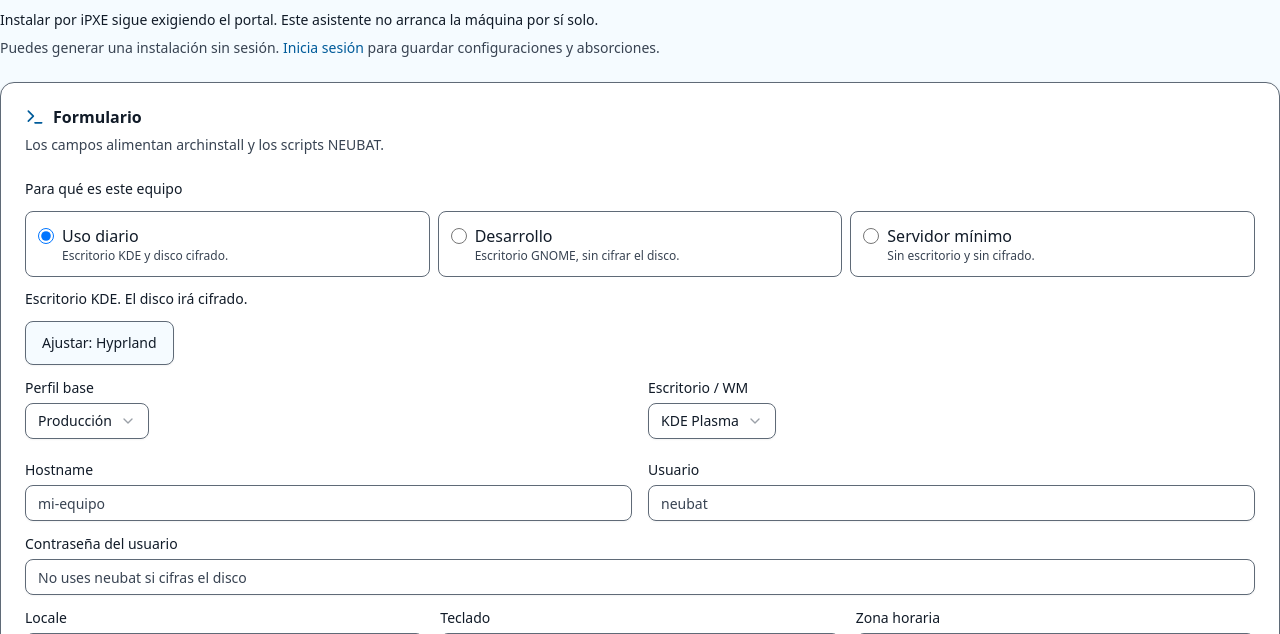
Test: ConfigurePage › Servidor mínimo anuncia que el disco no va cifrado
Click the radio button labelled "Servidor mínimo Sin escritorio y sin cifrado." at (871, 236), box x1=863 y1=228 x2=879 y2=244
(page scrolled)
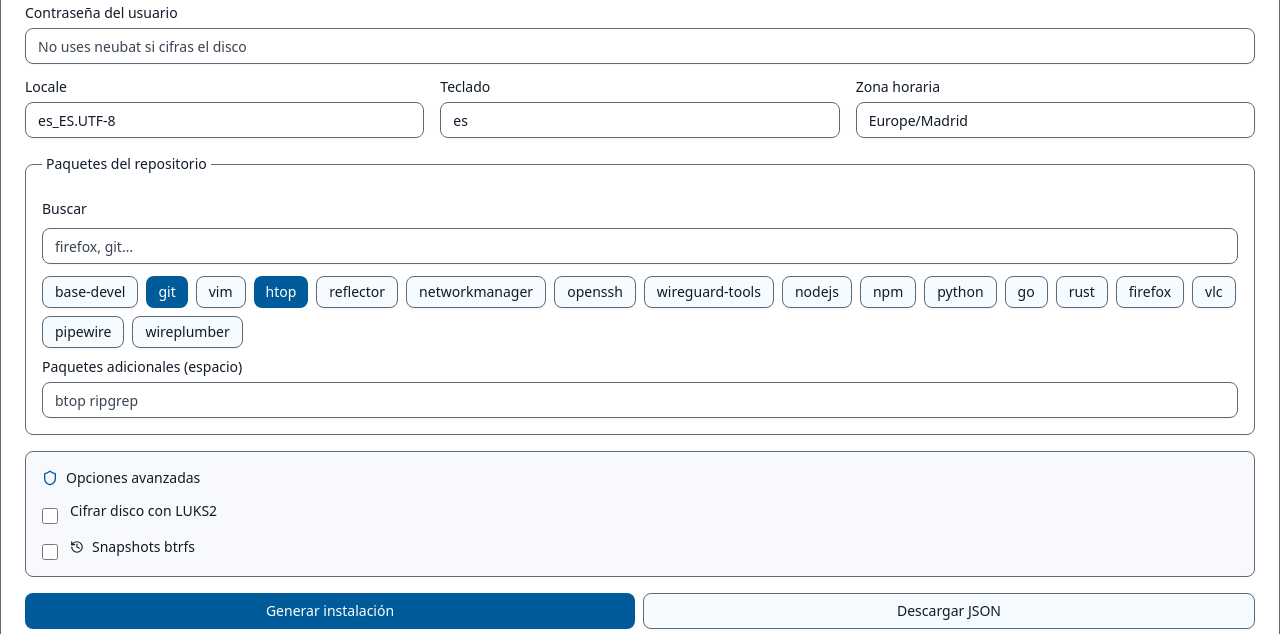
Result: the checkbox labelled "Cifrar disco con LUKS2" is not checked at x1=42 y1=508 x2=58 y2=524
